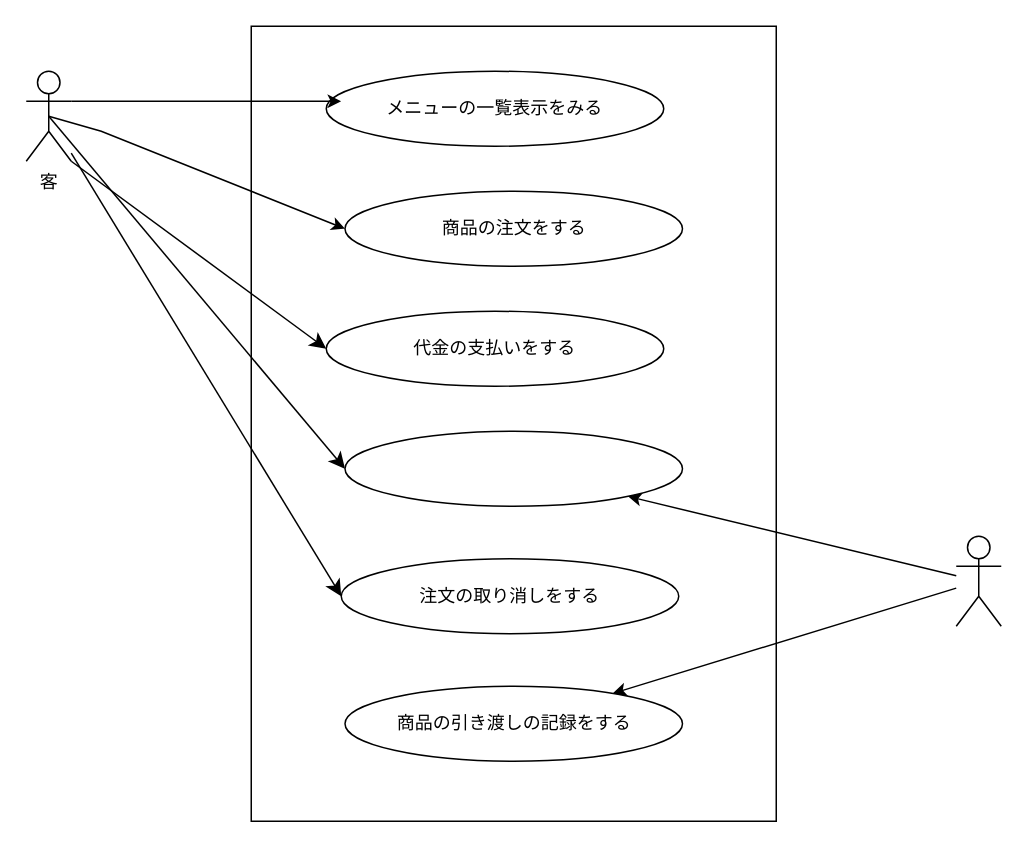
Image size: 1032x848. Some labels were removed from this diagram. Here are the shapes that lost their labels. From the top down, the box of each, then its label:
(250, 25, 776, 821): モバイルオーダーアプリ
(344, 430, 682, 506): 注文の確認をする
(955, 535, 1001, 626): 訪問者
